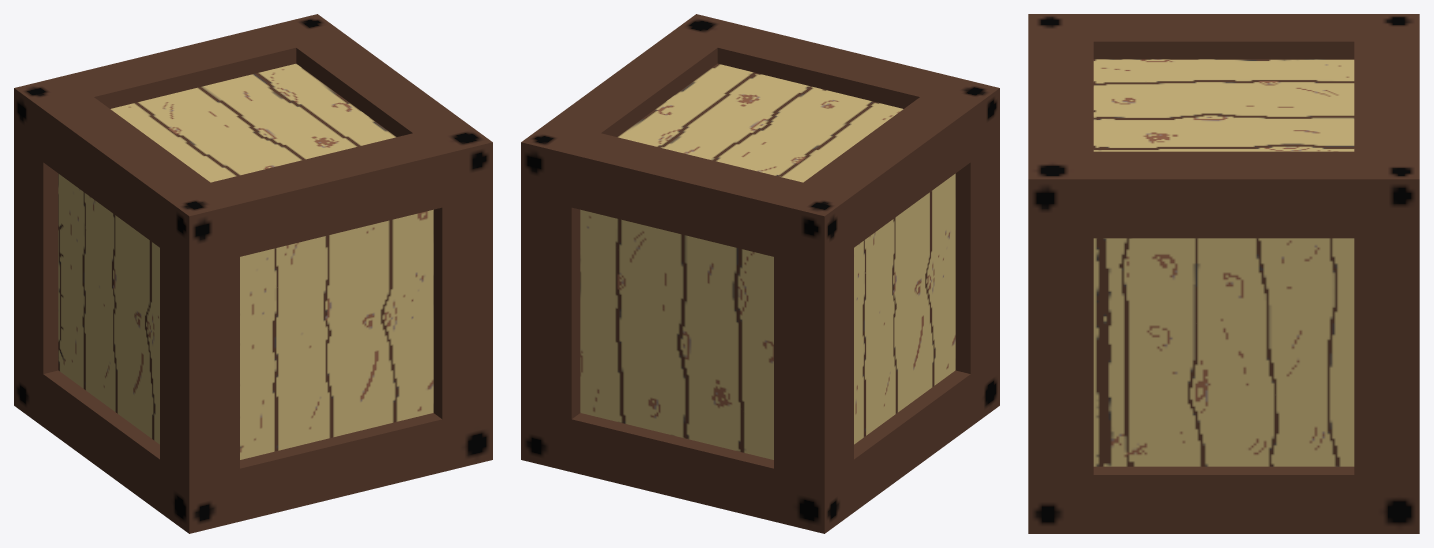
File: ящики 2.fbx
The picture shows the model from 3 angles, left to right: view 1: azimuth 30°, elevation 25°; view 2: azimuth 150°, elevation 25°; view 3: azimuth 270°, elevation 25°; orthographic projection. The views are drawn at different scales.
Visible parts, largest first — view 1: Cube; view 2: Cube; view 3: Cube.
Part boxes in pixels (box(x1,y1,x2,y2)): Cube: box(14, 14, 492, 533); Cube: box(521, 14, 999, 533); Cube: box(1028, 14, 1419, 533).
Size of the model in its own units: 2 by 2 by 2.
